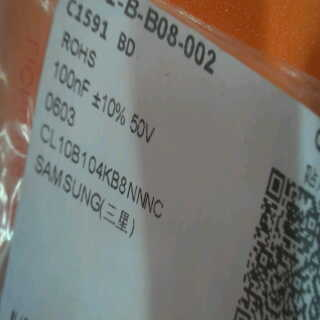100nF: (47, 60, 94, 98)
